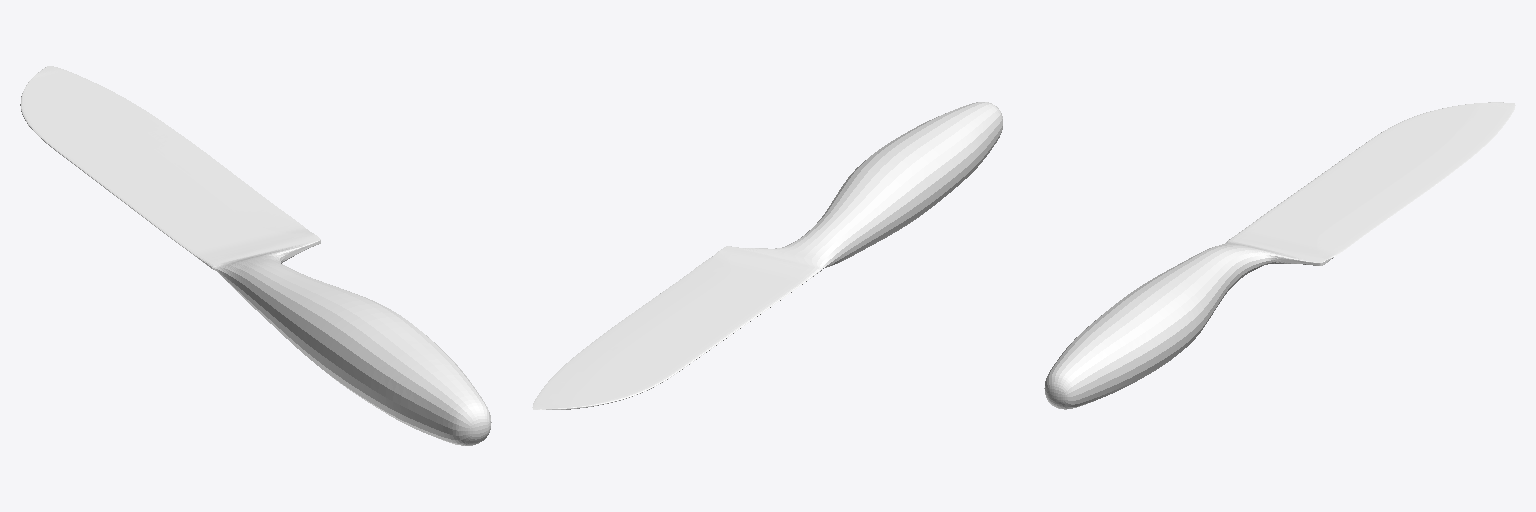
robot.urdf — knife:
<?xml version="0.0" ?>
<robot name="knife">
  <link name="base">
    <inertial>
        <origin rpy="0 0 0" xyz="0 0 0"/>
        <mass value="1.0"/>
        <inertia ixx="1" ixy="0" ixz="0" iyy="1" iyz="0" izz="1"/>
    </inertial>
   <visual>
     <origin rpy="0 0 0" xyz="0 0 0"/>
     <geometry>
       <mesh filename="knife.obj" scale="1 1 1"/>
     </geometry>
      <material name="white">
       <color rgba="1 1 1 1"/>
     </material>
   </visual>
   <collision>
     <origin rpy="0 0 0" xyz="0 0 0"/>
     <geometry>
       <mesh filename="knife_vhacd.obj" scale="1 1 1"/>
     </geometry>
   </collision>
  </link>
  <link name="grasp">
    <inertial>
      <origin rpy="0 0 0" xyz="0 0 0"/>
       <mass value="0.0"/>
       <inertia ixx="1" ixy="0" ixz="0" iyy="1" iyz="0" izz="1"/>
    </inertial>
  </link>
  <joint name="base__grasp" type="fixed">
    <origin xyz="0.0 0.0 0.035" rpy="0.0 0.0 0.0"/>
    <parent link="base"/>
    <child link="grasp"/>
  </joint>
</robot>

--- Facts derived from the render (not from the file) ---
3 views of the same robot in one strip: view 1: azimuth 30°, elevation 25°; view 2: azimuth 150°, elevation 25°; view 3: azimuth 330°, elevation 25° (orthographic).
Robot: knife — 2 links, 1 joints (1 fixed); root link base; default pose: all joints at 0.
Links seen in each view (by area): view 1: base; view 2: base; view 3: base.
Link boxes in pixels (left/top/right/bottom): base: left=20, top=66, right=491, bottom=445; base: left=532, top=102, right=1002, bottom=409; base: left=1044, top=102, right=1515, bottom=409.
Bounding box of the posed robot: 0.0253 × 0.1744 × 0.0143 m (x, y, z).
1 mesh visuals loaded from 1 distinct referenced files (1 OBJ).